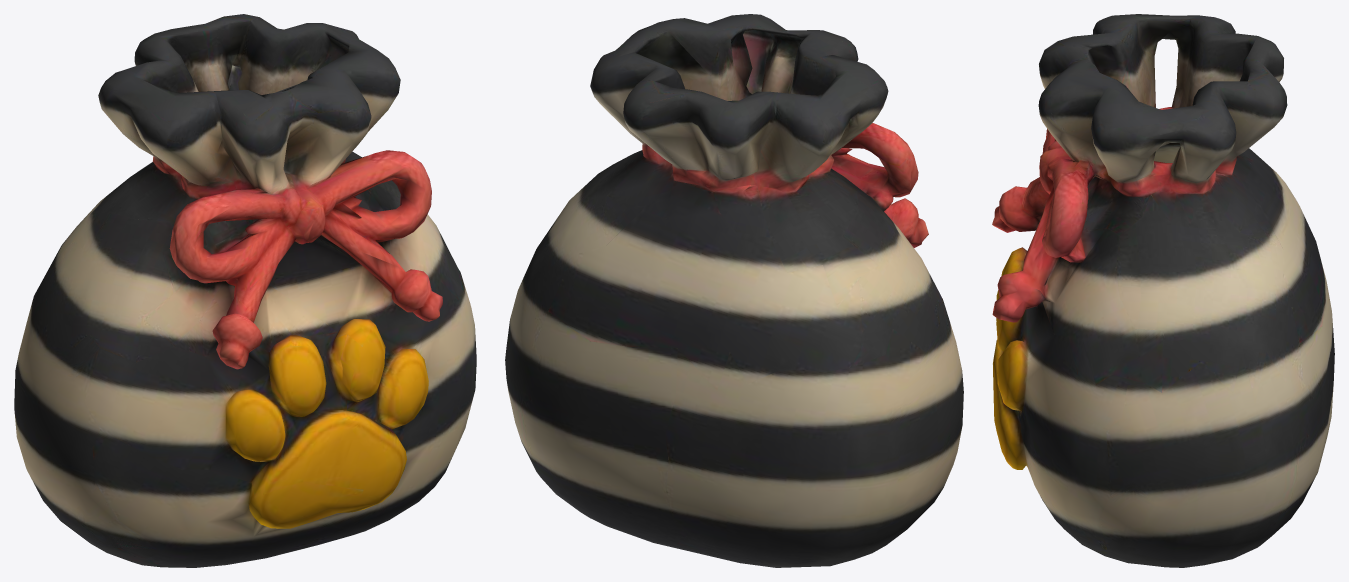
Rendered from item-steal.glb.
3 views of the same model, side by side, from view 1: azimuth 30°, elevation 25°; view 2: azimuth 150°, elevation 25°; view 3: azimuth 270°, elevation 25° (orthographic). The views are drawn at different scales.
Parts seen in each view (by area): view 1: Mesh_0; view 2: Mesh_0; view 3: Mesh_0.
Part boxes in pixels (bbox=[...]): Mesh_0: bbox=[14, 14, 476, 567]; Mesh_0: bbox=[505, 14, 963, 567]; Mesh_0: bbox=[992, 14, 1334, 567].
Bounding box in the file's own units: 1.85 × 2 × 1.36.
1 material, 1 textured.
